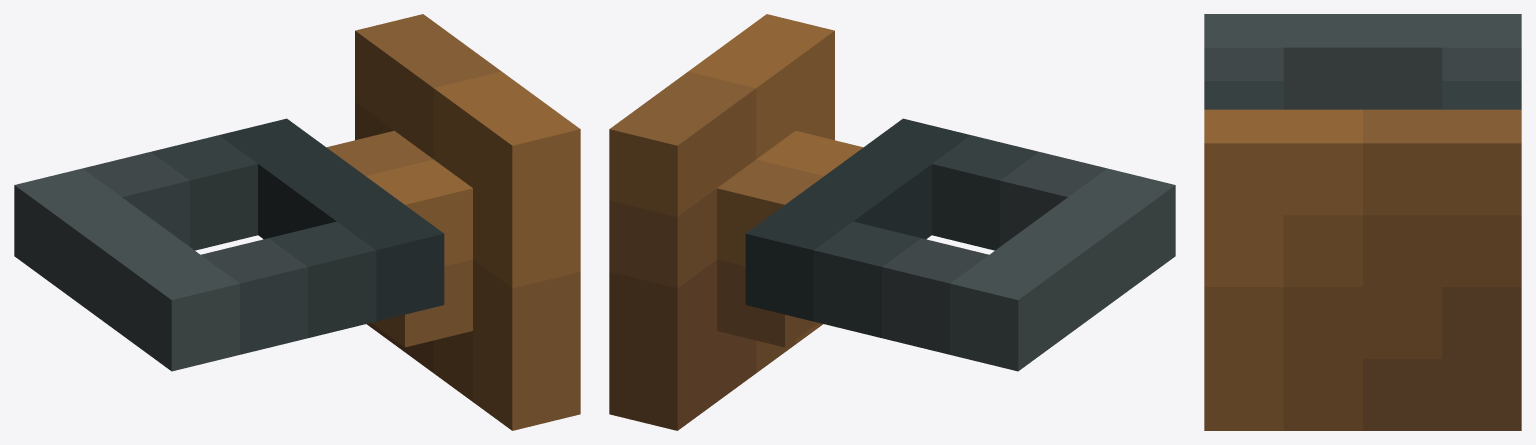
Rendered from torch_holder.gltf.
3 views of the same model, side by side, from view 1: azimuth 30°, elevation 25°; view 2: azimuth 150°, elevation 25°; view 3: azimuth 270°, elevation 25° (orthographic).
Parts seen in each view (by area): view 1: torch_holder; view 2: torch_holder; view 3: torch_holder.
Boxes of the visible parts, x1,y1,x2,y2 form: torch_holder: [14, 14, 580, 430]; torch_holder: [609, 14, 1175, 430]; torch_holder: [1204, 14, 1521, 430].
Size of the model in its own units: 0.6 by 0.4 by 0.4.
Materials: 1 (1 with a texture image).
